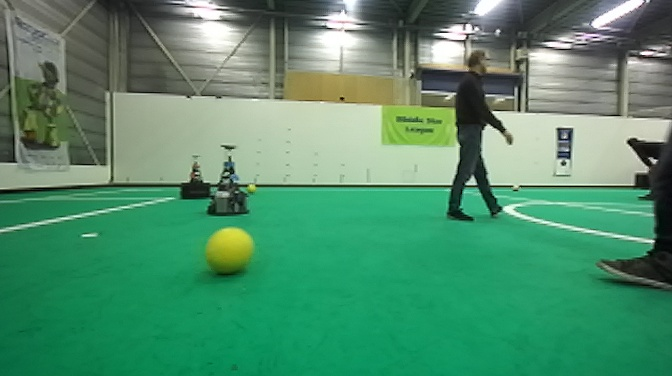ball: (203, 226, 257, 277), (244, 181, 258, 194), (509, 181, 521, 194)
human: (445, 48, 514, 225), (624, 134, 672, 202)
robot: (203, 143, 250, 217), (177, 153, 215, 201)
